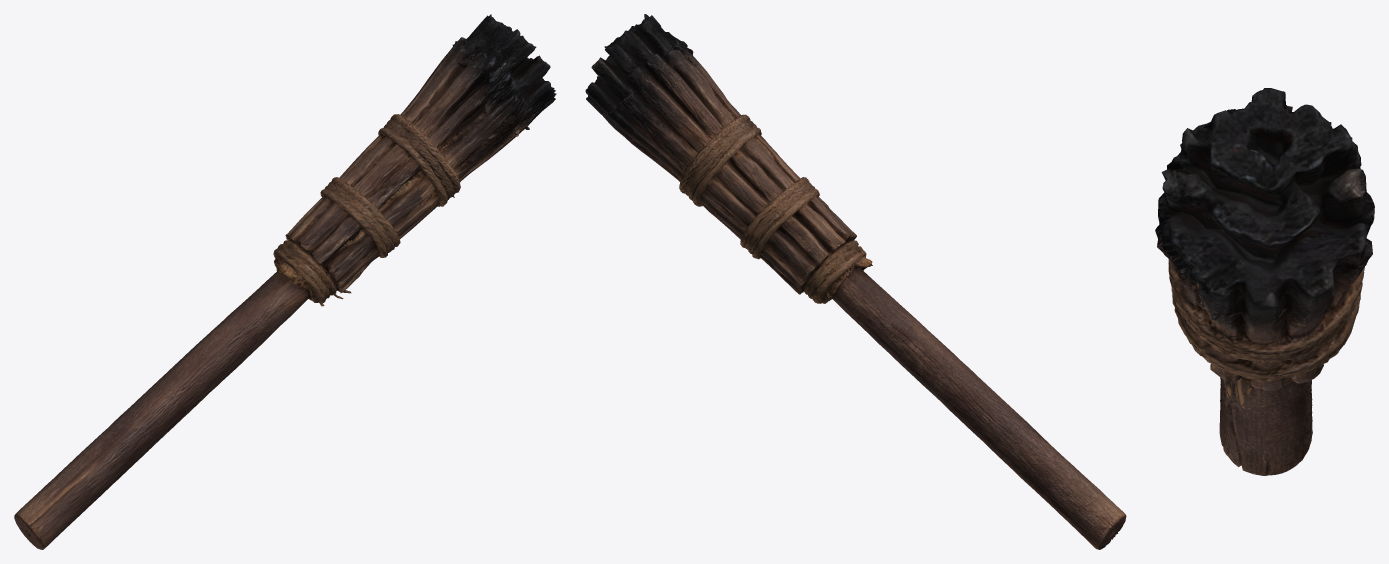
Rendered from torch_src.glb.
3 views of the same model, side by side, from view 1: azimuth 30°, elevation 25°; view 2: azimuth 150°, elevation 25°; view 3: azimuth 270°, elevation 25° (orthographic). The views are drawn at different scales.
Parts seen in each view (by area): view 1: tripo_node_885466b7-27bc-4ee6-a2be-bd50d7362d35; view 2: tripo_node_885466b7-27bc-4ee6-a2be-bd50d7362d35; view 3: tripo_node_885466b7-27bc-4ee6-a2be-bd50d7362d35.
Part boxes in pixels (x1,y1,x2,y2): tripo_node_885466b7-27bc-4ee6-a2be-bd50d7362d35: [14, 14, 556, 549]; tripo_node_885466b7-27bc-4ee6-a2be-bd50d7362d35: [585, 14, 1126, 549]; tripo_node_885466b7-27bc-4ee6-a2be-bd50d7362d35: [1155, 88, 1374, 475].
Bounding box in the file's own units: 0.9805 × 0.7439 × 0.1783.
1 material, 1 textured.
